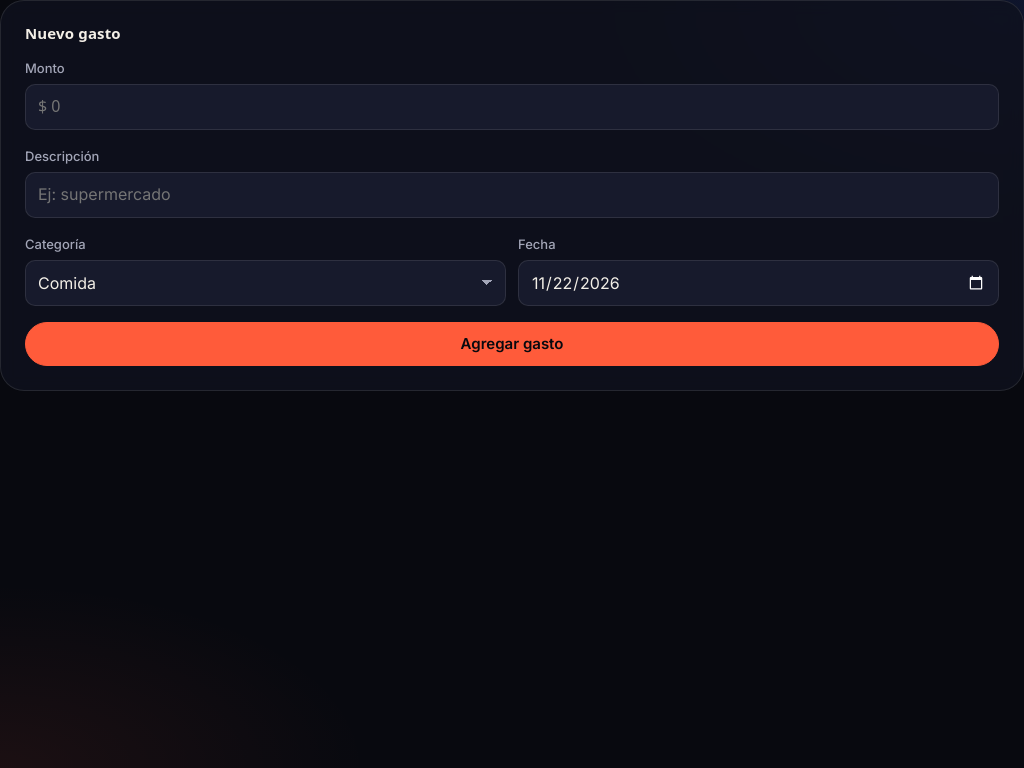
ExpenseForm › envía el gasto con el monto en formato argentino
In the field labelled "Monto": point(512, 107) [25, 84, 999, 130], type "12.500,50"
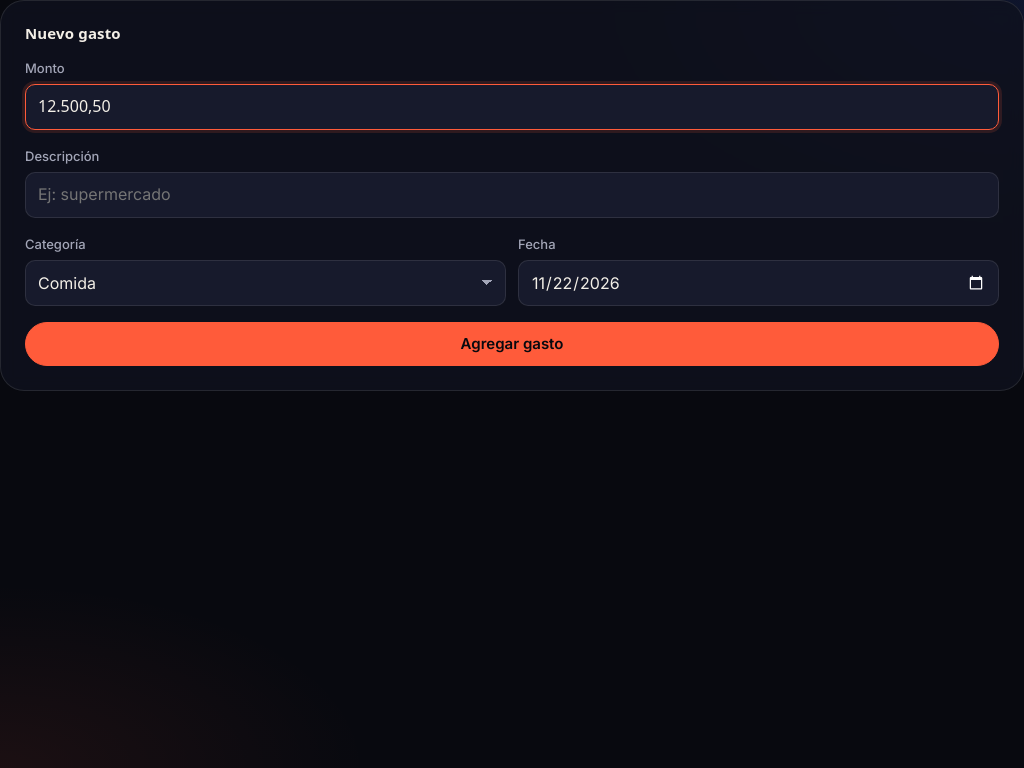
In the field labelled "Descripción": point(512, 195) [25, 172, 999, 218], type "Supermercado"
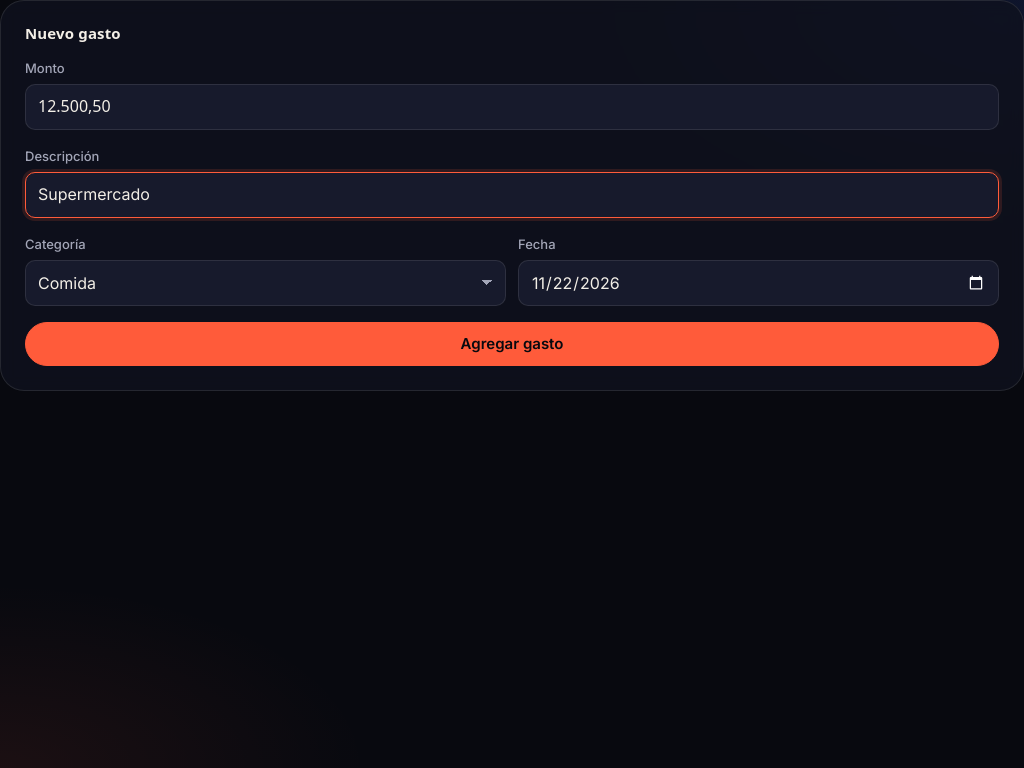
Select "Hogar" in the dropdown labelled "Categoría": point(266, 283) [25, 260, 506, 306]
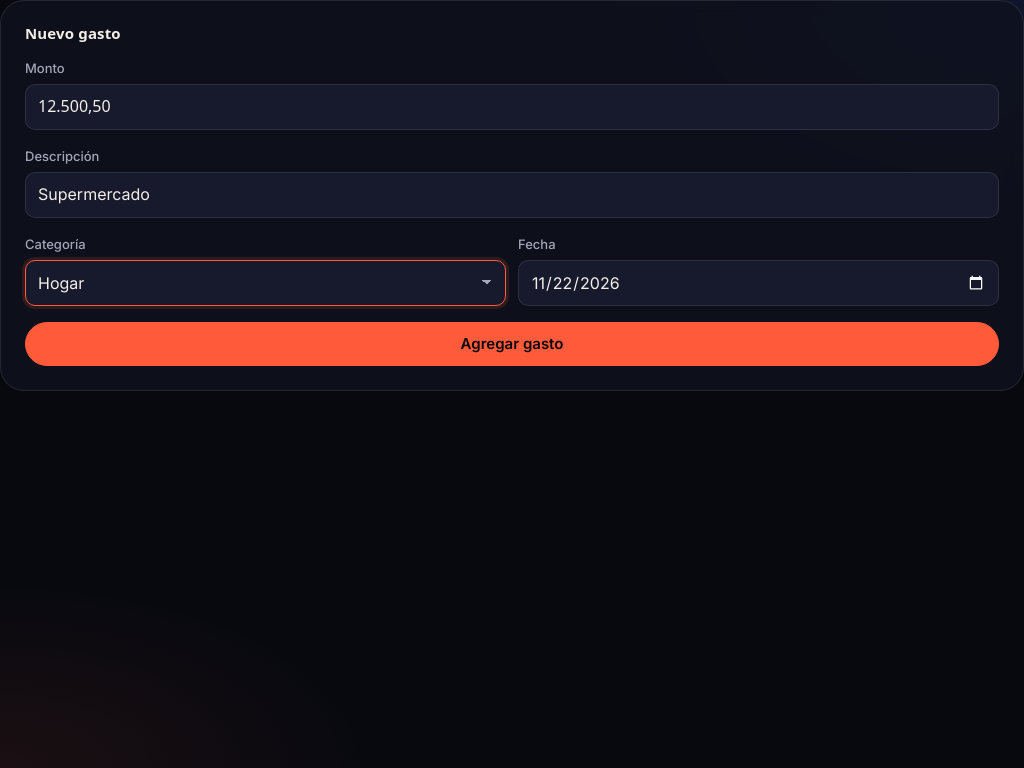
Click the button "Agregar gasto": point(512, 344) [25, 322, 999, 366]
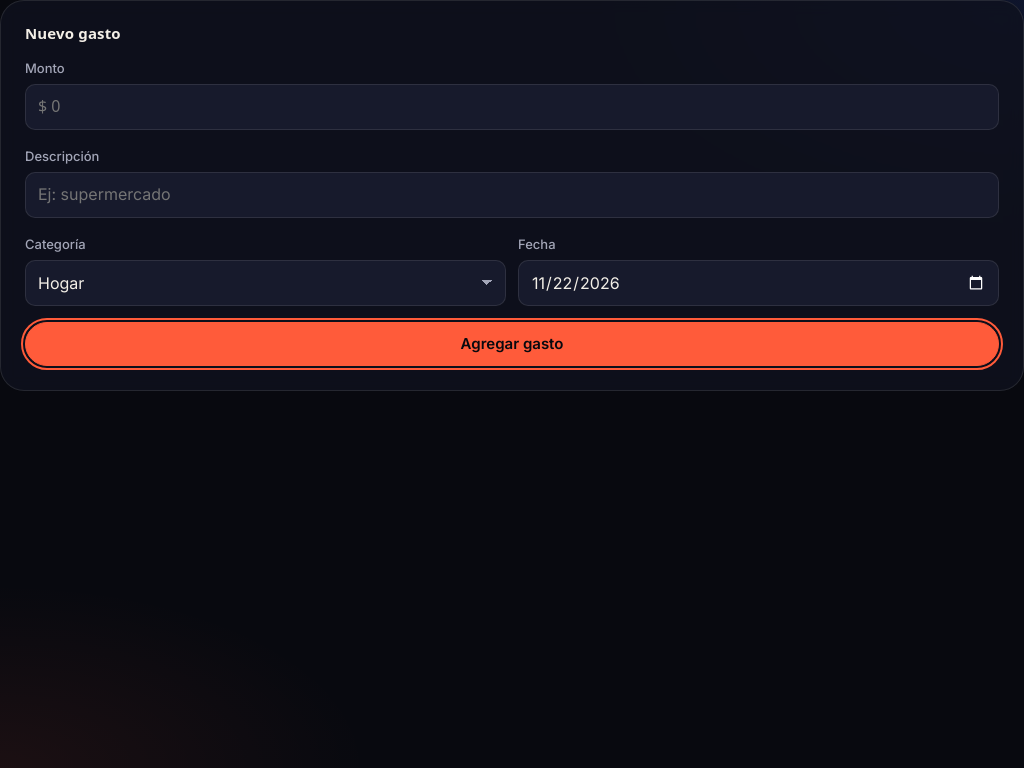
Result: the field labelled "Monto" is empty at [25, 84, 999, 130]
